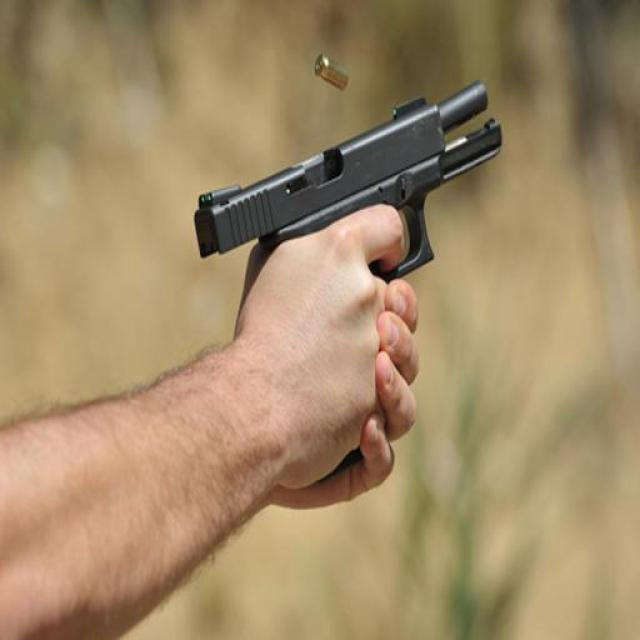pistol: (194, 76, 509, 487)
